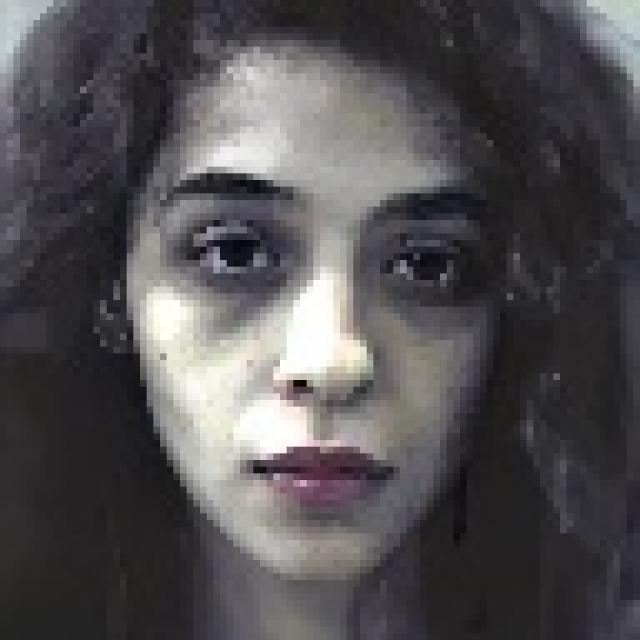sad: (103, 10, 512, 612)
